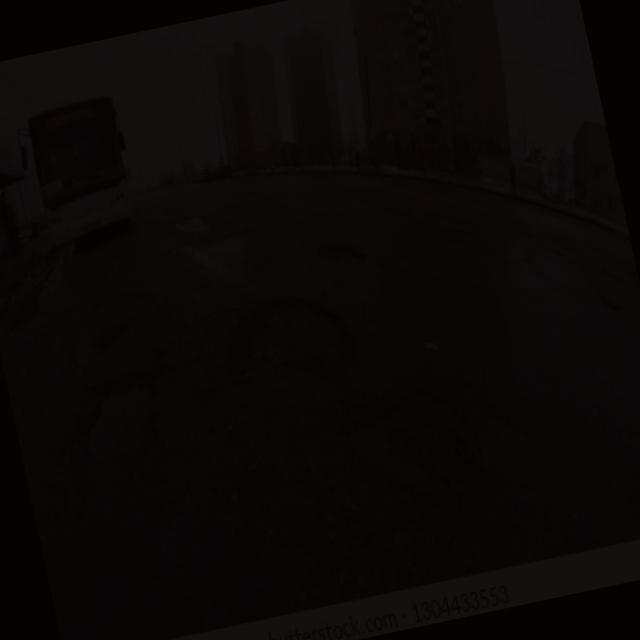Pothole: (340, 401, 534, 504), (219, 282, 353, 387), (82, 378, 166, 468), (396, 198, 472, 245), (321, 235, 373, 262), (181, 212, 221, 241)
